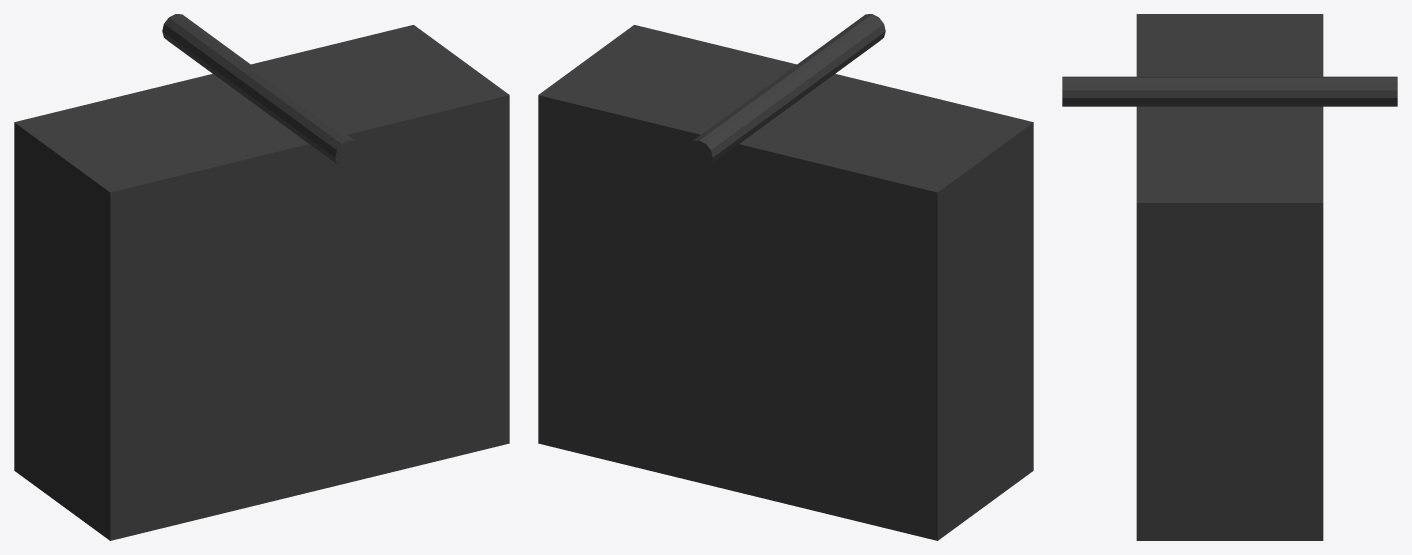
The model's file is bag_handbag.glb.
3 views of the same model, side by side, from view 1: azimuth 30°, elevation 25°; view 2: azimuth 150°, elevation 25°; view 3: azimuth 270°, elevation 25° (orthographic). The views are drawn at different scales.
Visible parts, largest first — view 1: geometry_0; view 2: geometry_0; view 3: geometry_0.
Part boxes in pixels (x1,y1,x2,y2): geometry_0: (14, 14, 509, 540); geometry_0: (538, 14, 1033, 540); geometry_0: (1062, 14, 1397, 540).
Bounding box in the file's own units: 0.24 × 0.218 × 0.18.
Materials: 1 (1 with a texture image).
